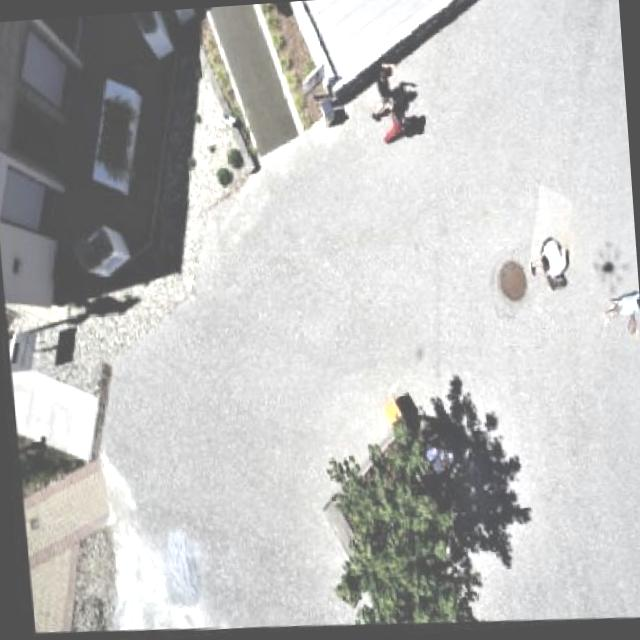Person: (519, 226, 571, 294), (374, 81, 418, 150), (356, 58, 389, 122), (598, 280, 640, 329)
